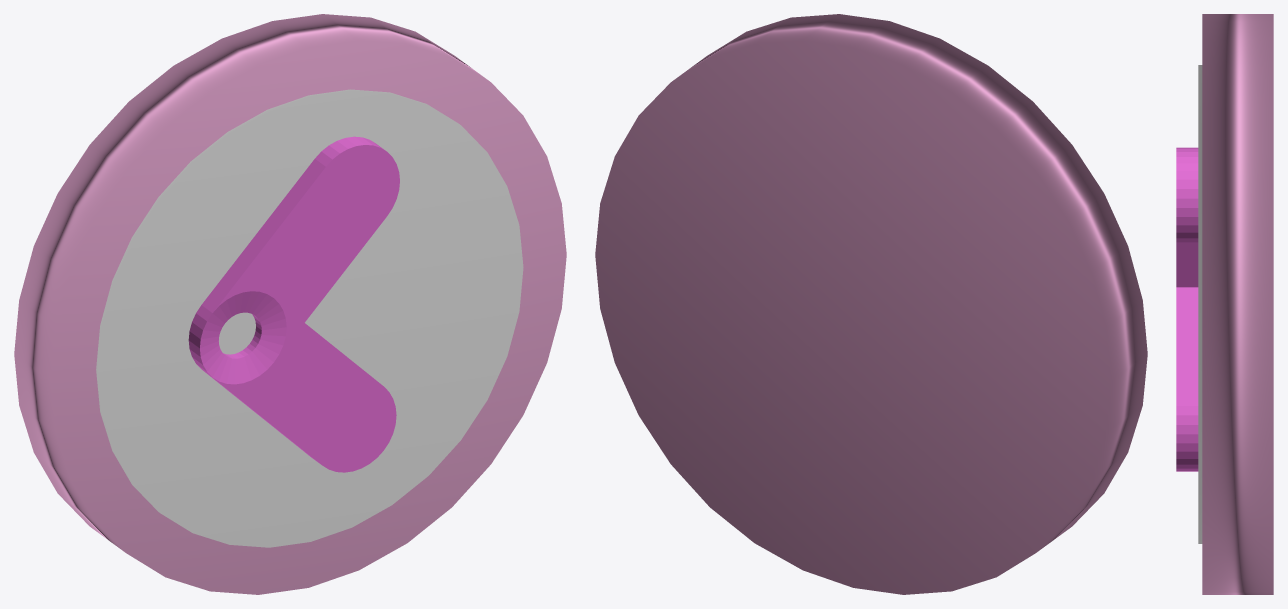
File: button.glb
3 views of the same model, side by side, from view 1: azimuth 30°, elevation 25°; view 2: azimuth 150°, elevation 25°; view 3: azimuth 270°, elevation 25° (orthographic). The views are drawn at different scales.
Visible parts, largest first — view 1: Cylinder.001, Cylinder, Cylinder.003; view 2: Cylinder; view 3: Cylinder, Cylinder.003, Cylinder.001.
Boxes of the visible parts, <box> form: Cylinder.001: <box>96,89,523,547</box>; Cylinder: <box>14,14,566,594</box>; Cylinder.003: <box>188,136,399,472</box>; Cylinder: <box>595,14,1147,594</box>; Cylinder: <box>1202,14,1273,594</box>; Cylinder.003: <box>1176,147,1198,471</box>; Cylinder.001: <box>1198,65,1202,543</box>.
Size of the model in its own units: 2.48 by 2.48 by 0.4141.
